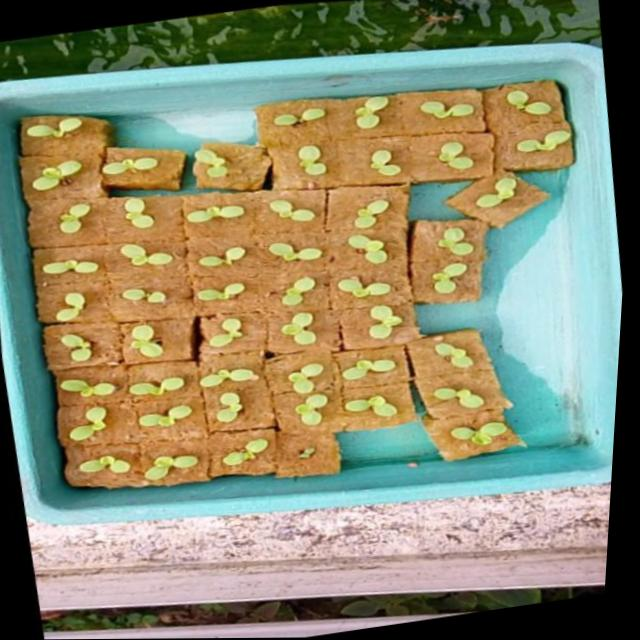Baby: (466, 173, 523, 216), (51, 196, 114, 232), (499, 84, 566, 117), (497, 118, 551, 150), (339, 353, 396, 381), (351, 234, 408, 262), (344, 268, 395, 299), (203, 315, 250, 348), (51, 333, 94, 367), (117, 288, 181, 310), (145, 453, 198, 479), (441, 219, 478, 254), (222, 436, 268, 464), (451, 417, 507, 440), (58, 378, 120, 398), (424, 100, 487, 119), (71, 405, 106, 439), (369, 302, 403, 336), (131, 324, 165, 357), (199, 244, 250, 266), (199, 367, 258, 386), (123, 243, 176, 264), (282, 310, 316, 342), (288, 360, 323, 391), (358, 96, 391, 128), (357, 196, 391, 227), (296, 389, 328, 421), (284, 274, 318, 304), (129, 376, 185, 394), (271, 241, 324, 260), (433, 383, 483, 403), (438, 141, 473, 169), (435, 339, 473, 364), (348, 396, 397, 415), (81, 453, 132, 471), (126, 198, 157, 227), (200, 281, 247, 300), (300, 144, 329, 173), (434, 268, 468, 292), (60, 292, 89, 320), (217, 391, 243, 421), (373, 148, 403, 174), (46, 258, 101, 272), (275, 199, 308, 220), (140, 409, 182, 425)
